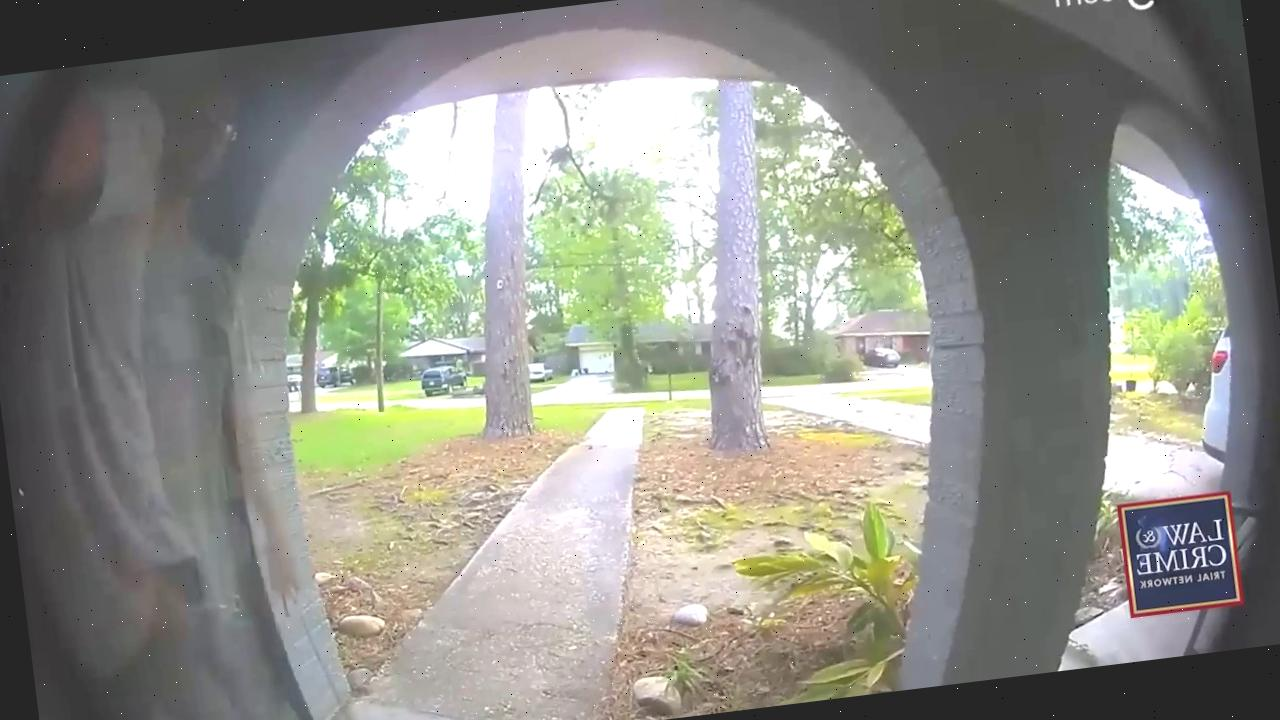suspicion: (0, 56, 342, 720)
